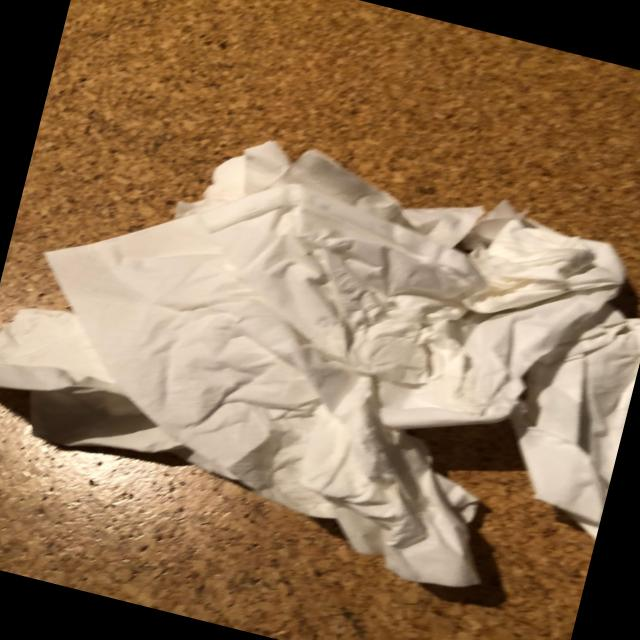organic waste: (0, 86, 632, 616), (0, 290, 220, 477), (484, 284, 640, 544)
